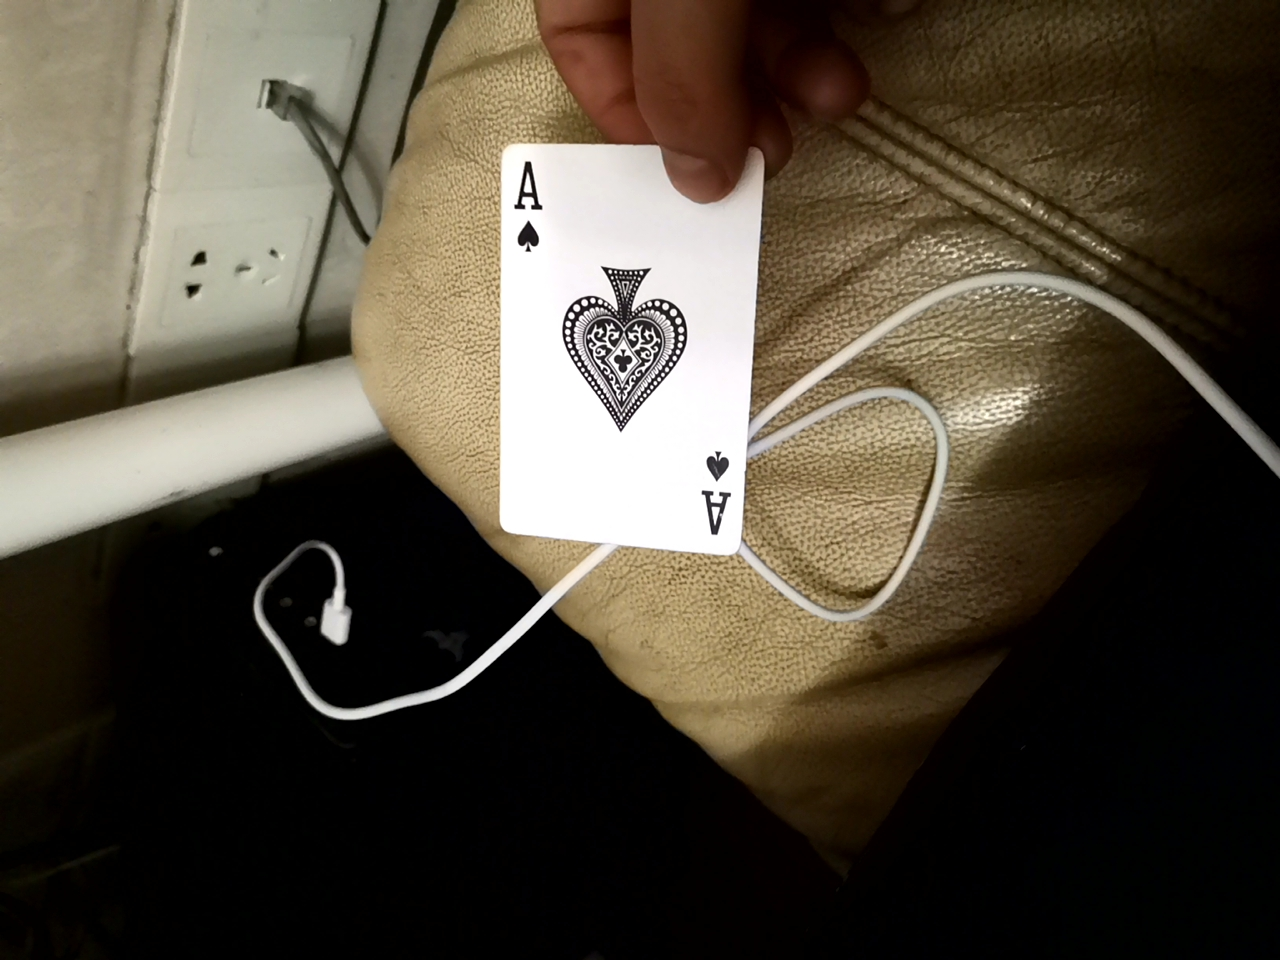ht a: (459, 126, 767, 561)
